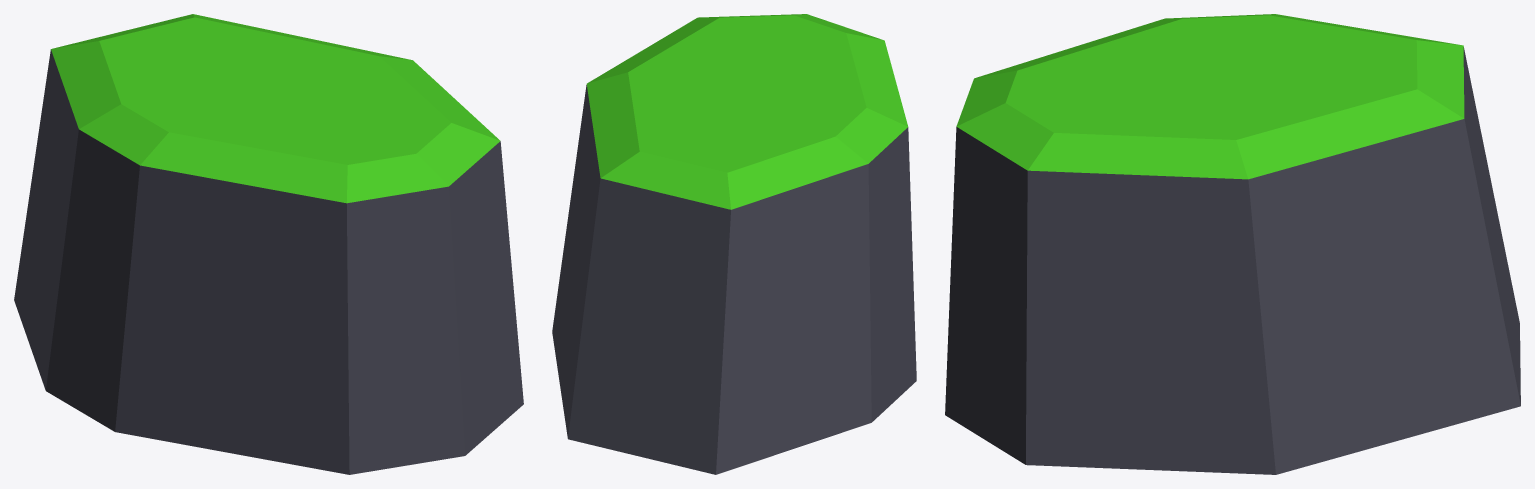
File: BoulderGreenS.fbx
The picture shows the model from 3 angles, left to right: view 1: azimuth 30°, elevation 25°; view 2: azimuth 150°, elevation 25°; view 3: azimuth 270°, elevation 25°; orthographic projection. The views are drawn at different scales.
Visible parts, largest first — view 1: Boulder_greenS; view 2: Boulder_greenS; view 3: Boulder_greenS.
Part boxes in pixels (box(x1,y1,x2,y2)): Boulder_greenS: box(14, 14, 523, 474); Boulder_greenS: box(552, 14, 916, 474); Boulder_greenS: box(945, 14, 1520, 474).
Size of the model in its own units: 213 by 284 by 369.
